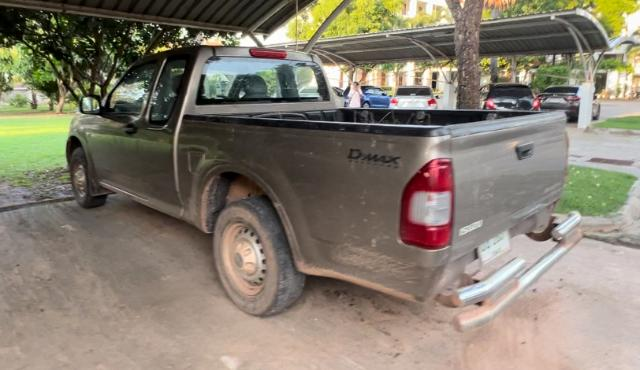pickup-truck: (60, 35, 594, 338)
